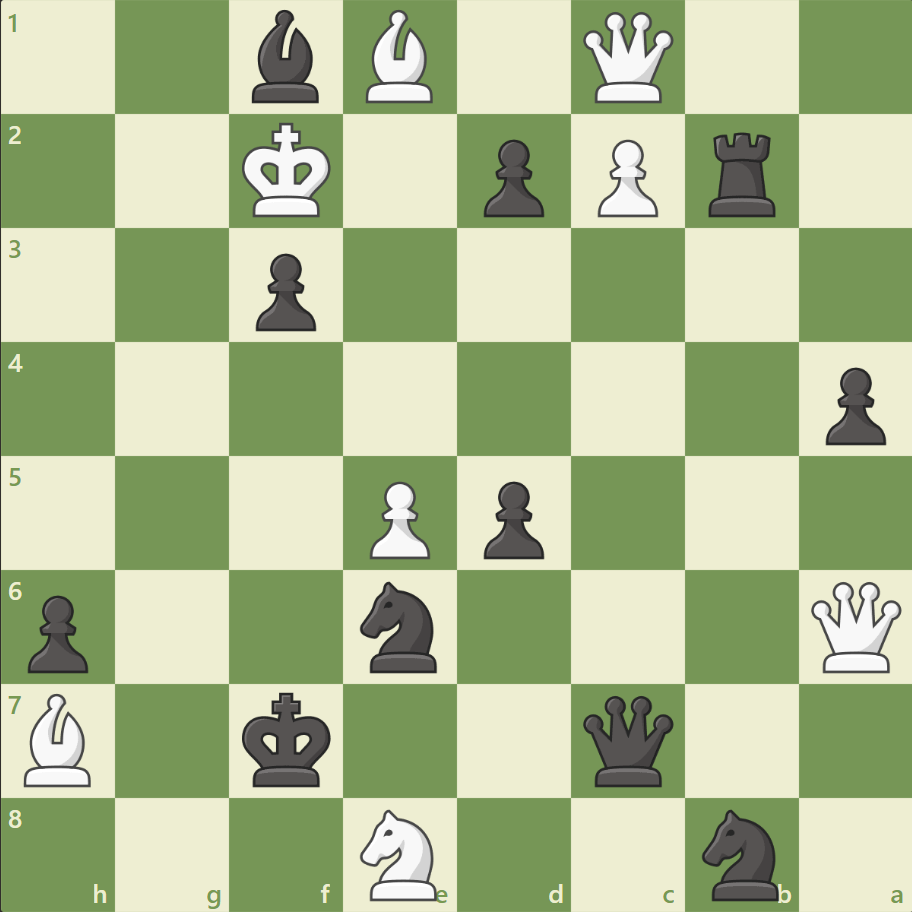B: (17, 687, 101, 790), (358, 6, 442, 109)
K: (238, 117, 338, 225)
N: (351, 802, 449, 904)
P: (361, 473, 435, 564), (588, 132, 662, 223)
Q: (805, 576, 904, 676), (578, 9, 677, 108)
b: (244, 6, 328, 109)
k: (238, 685, 338, 793)
n: (351, 575, 449, 677), (692, 802, 789, 904)
p: (20, 586, 95, 677), (474, 473, 549, 564), (247, 246, 322, 337), (474, 132, 549, 223), (815, 359, 889, 450)
q: (578, 690, 677, 789)
r: (700, 125, 783, 222)
